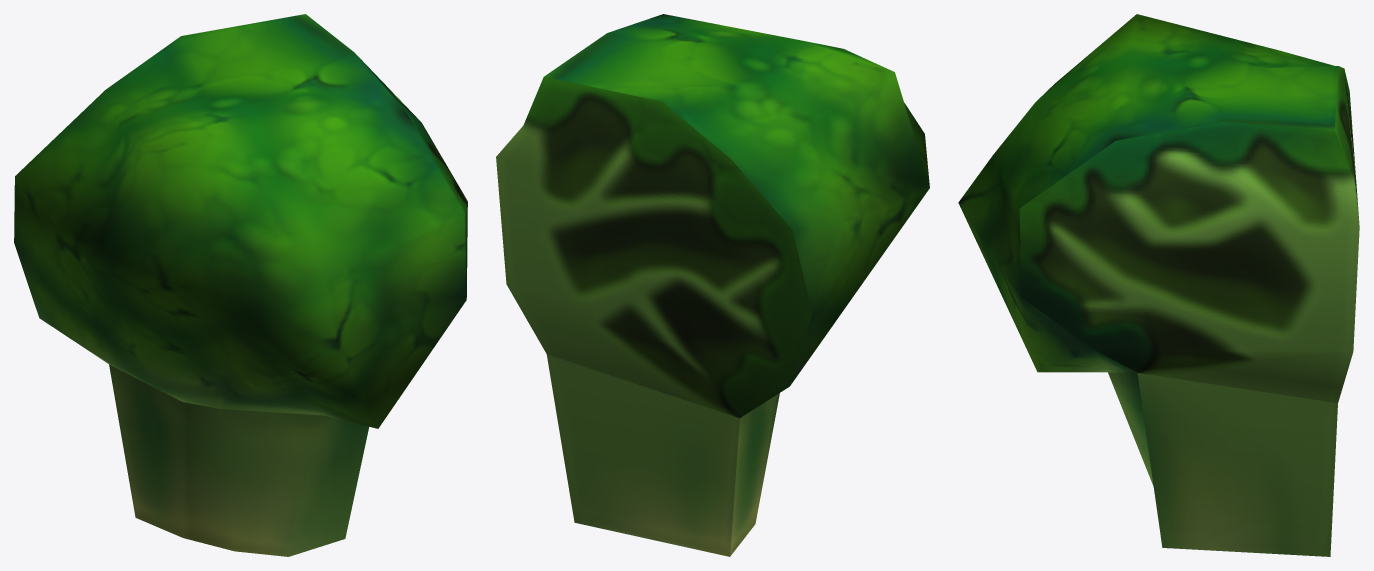
File: p_broccoli_projectile_part01.fbx
The picture shows the model from 3 angles, left to right: view 1: azimuth 30°, elevation 25°; view 2: azimuth 150°, elevation 25°; view 3: azimuth 270°, elevation 25°; orthographic projection.
Visible parts, largest first — view 1: polySurface2; view 2: polySurface2; view 3: polySurface2.
Part boxes in pixels (x1,y1,x2,y2): polySurface2: (14, 14, 467, 556); polySurface2: (496, 14, 929, 556); polySurface2: (958, 14, 1359, 556).
Bounding box in the file's own units: 1.14 × 1.5 × 1.2.
